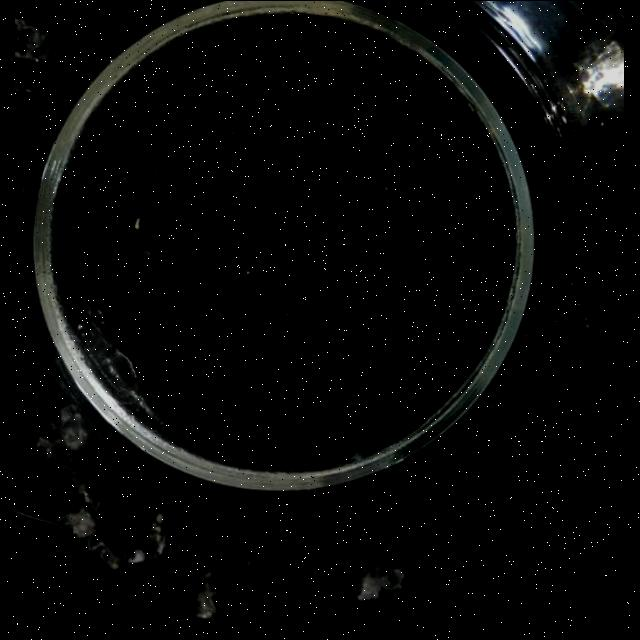Fibre: (32, 440, 170, 570), (32, 402, 92, 466), (124, 513, 168, 561), (359, 563, 407, 603), (15, 14, 50, 64), (184, 574, 222, 620), (350, 452, 366, 464)
microbeads: (134, 216, 144, 230)
